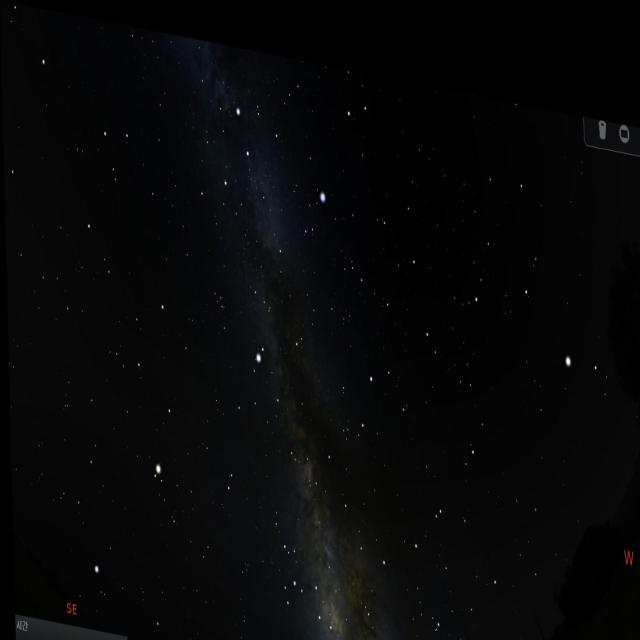aquila: (230, 290, 312, 465)
bootes: (473, 132, 616, 410)
cygnus: (216, 86, 288, 282)
lyra: (290, 170, 334, 240)
sagittarius: (274, 533, 335, 640)
scorpius: (326, 564, 454, 640)
